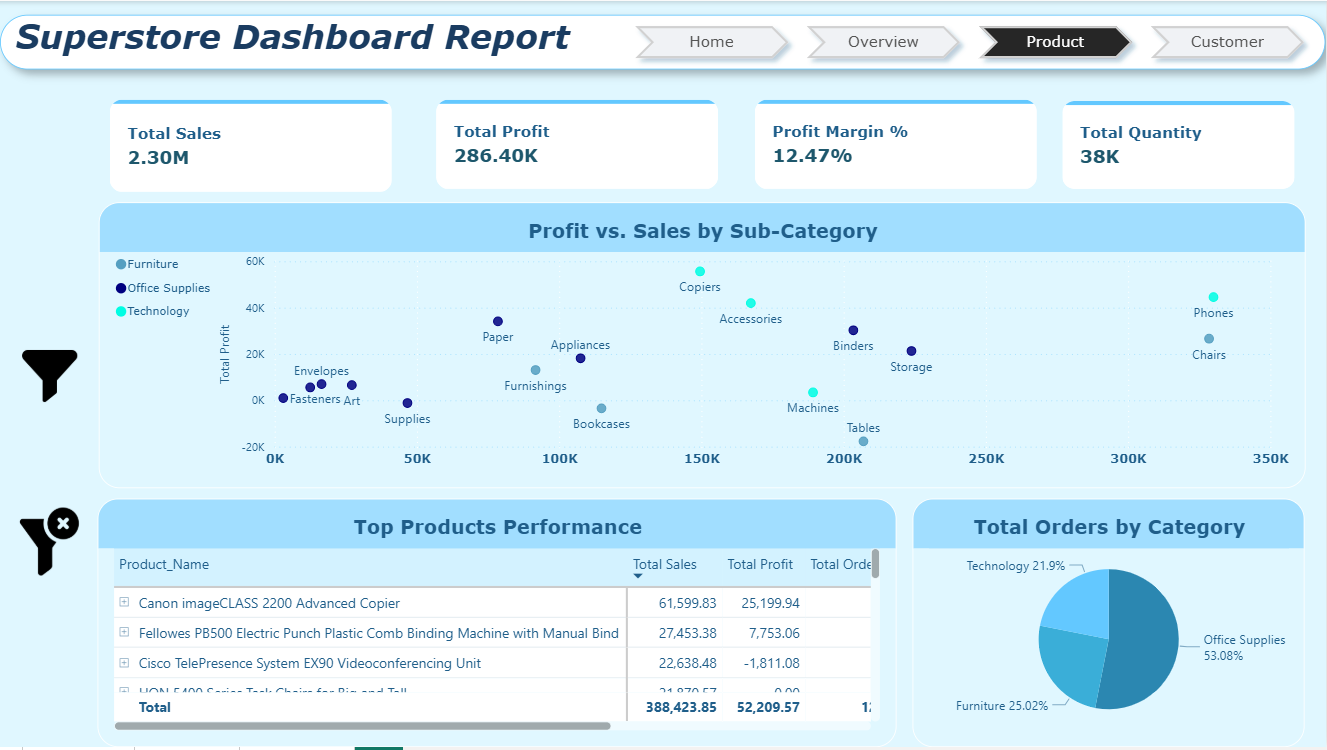

The page's visual inventory and layout, read from the dashboard file:
{"tool":"powerbi","page":{"name":"Product","canvas":[1280,720],"ordinal":2},"visuals":[{"type":"textbox","box":[0,13.3,1278.8,53.1],"z":0},{"type":"pageNavigator","box":[588.7,0,691.3,79.6],"z":1000},{"type":"cardVisual","fields":{"Data":["Measure.Total Sales"]},"box":[93.8,83.8,296.2,113.8],"z":2000},{"type":"cardVisual","fields":{"Data":["Measure.Total Profit"]},"box":[408.8,83.8,296.2,110],"z":3000},{"type":"cardVisual","fields":{"Data":["Measure.Profit Margin %"]},"box":[716.2,83.8,296.2,110],"z":4000},{"type":"cardVisual","fields":{"Data":["Measure.Total Quantity"]},"box":[1013,84,248,109.5],"z":5000},{"type":"scatterChart","title":"Profit vs. Sales by Sub-Category","fields":{"Y":["Measure.Total Profit"],"Category":["DIM_Products.Sub_Category"],"X":["Measure.Total Sales"],"Series":["DIM_Products.Category"]},"box":[95,193.8,1165,276.2],"z":6000},{"type":"pivotTable","title":"Top Products Performance","fields":{"Rows":["DIM_Products.Product_Name","DIM_Order_Date.Year"],"Values":["Measure.Total Sales","Measure.Total Profit","Measure.Total Orders","Measure.Profit Margin %"]},"box":[93.8,480,771.2,240],"z":7000},{"type":"pieChart","fields":{"Category":["DIM_Products.Category"],"Y":["Measure.Total Orders"]},"box":[881.2,480,378.8,240],"z":8000},{"type":"image","box":[1.2,313.8,93.8,93.8],"z":12000},{"type":"image","box":[0,470,95,102.5],"z":13000},{"type":"actionButton","box":[0,326.2,93.8,68.8],"z":14000},{"type":"actionButton","title":"Clear Filter","box":[0,480,93.8,82.5],"z":16000}]}

Visuals, with their boxes in screenshot pixels (x1, y1, x2, y2), scaled from the page's 1280x720 canvas onto the 1327x750 screenshot:
textbox: [0,14,1326,69]
pageNavigator: [610,0,1326,83]
cardVisual - Measure.Total Sales: [97,87,404,206]
cardVisual - Measure.Total Profit: [424,87,731,202]
cardVisual - Measure.Profit Margin %: [742,87,1050,202]
cardVisual - Measure.Total Quantity: [1050,88,1307,202]
"Profit vs. Sales by Sub-Category" scatterChart: [98,202,1306,490]
"Top Products Performance" pivotTable: [97,500,897,749]
pieChart - DIM_Products.Category x Measure.Total Orders: [914,500,1306,749]
image: [1,327,98,425]
image: [0,490,98,596]
actionButton: [0,340,97,411]
"Clear Filter" actionButton: [0,500,97,586]
